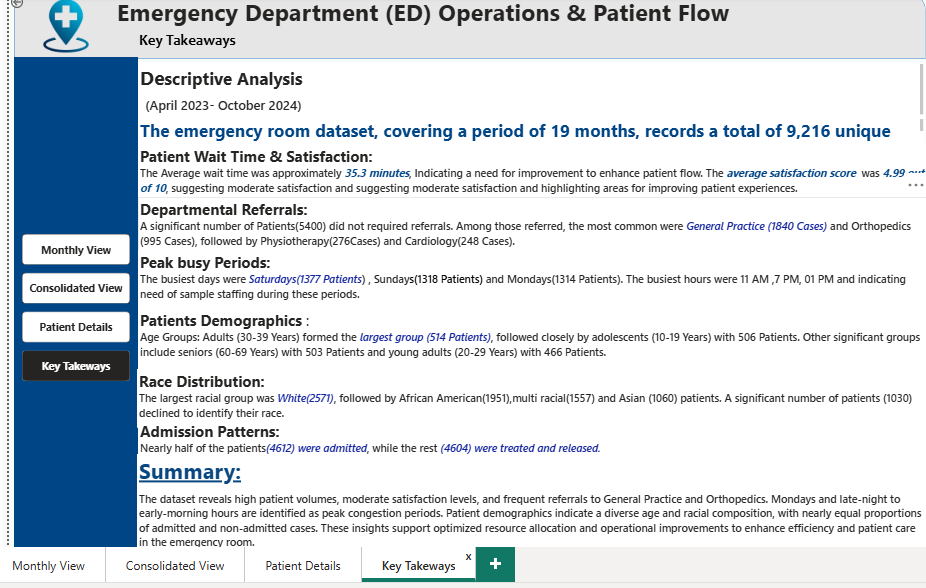

The dashboard page shown, as its layout file describes it:
{"tool":"powerbi","page":{"name":"Key Takeways","canvas":[2300,1400],"ordinal":3},"visuals":[{"type":"shape","box":[11.4,0,2279.3,162.2],"z":0},{"type":"shape","box":[11.4,156.5,310.2,1243.5],"z":1000},{"type":"shape","box":[318.7,0,1826.8,156.5],"z":2000},{"type":"textbox","box":[266.1,0,1679,87.8],"z":3000},{"type":"textbox","box":[320.3,87.8,353.9,74.9],"z":4000},{"type":"image","box":[48.4,11.4,190.7,133.7],"z":5000},{"type":"actionButton","box":[0,0,100,40],"z":6000},{"type":"textbox","box":[322.9,170.5,1968.3,136.9],"z":7000},{"type":"textbox","box":[322.5,307.5,1967.5,67.5],"z":8000},{"type":"textbox","box":[321.5,375.6,1977.6,176.4],"z":9000},{"type":"textbox","box":[321.5,506.5,1977.6,153.7],"z":10000},{"type":"textbox","box":[321.5,640.2,1977.6,145.1],"z":11000},{"type":"textbox","box":[321.5,785.4,1977.6,153.7],"z":12000},{"type":"textbox","box":[320.3,937.6,1973.4,147.2],"z":13000},{"type":"textbox","box":[321.5,1061.4,1972,116.7],"z":14000},{"type":"textbox","box":[320.3,1149.4,1973.4,250.6],"z":15000},{"type":"pageNavigator","box":[31.3,600.4,270.3,369.9],"z":15001}]}

Visuals, with their boxes on the page's 2300x1400 design canvas (x1, y1, x2, y2). These are canvas units, not pixel positions in the 926x588 screenshot, which may show the page scaled, cropped or inside an application window:
shape: bbox=[11, 0, 2291, 162]
shape: bbox=[11, 156, 322, 1400]
shape: bbox=[319, 0, 2146, 156]
textbox: bbox=[266, 0, 1945, 88]
textbox: bbox=[320, 88, 674, 163]
image: bbox=[48, 11, 239, 145]
actionButton: bbox=[0, 0, 100, 40]
textbox: bbox=[323, 170, 2291, 307]
textbox: bbox=[322, 308, 2290, 375]
textbox: bbox=[322, 376, 2299, 552]
textbox: bbox=[322, 506, 2299, 660]
textbox: bbox=[322, 640, 2299, 785]
textbox: bbox=[322, 785, 2299, 939]
textbox: bbox=[320, 938, 2294, 1085]
textbox: bbox=[322, 1061, 2294, 1178]
textbox: bbox=[320, 1149, 2294, 1400]
pageNavigator: bbox=[31, 600, 302, 970]
